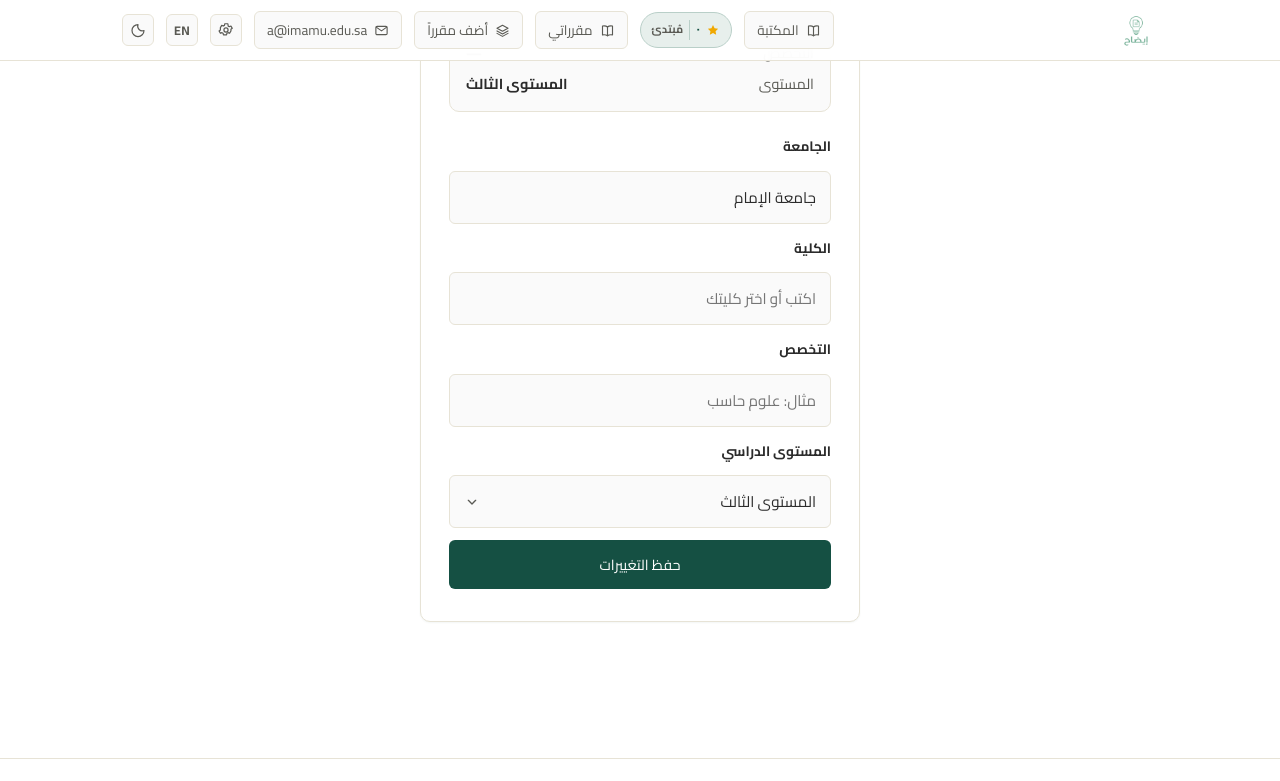
Scenario: الحفظ يستدعي saveProfile بالحقول المعدّلة ويعرض تأكيداً
(page scrolled)
In the field labelled "التخصص": (640, 400) [449,374,831,427], type "هندسة برمجيات"
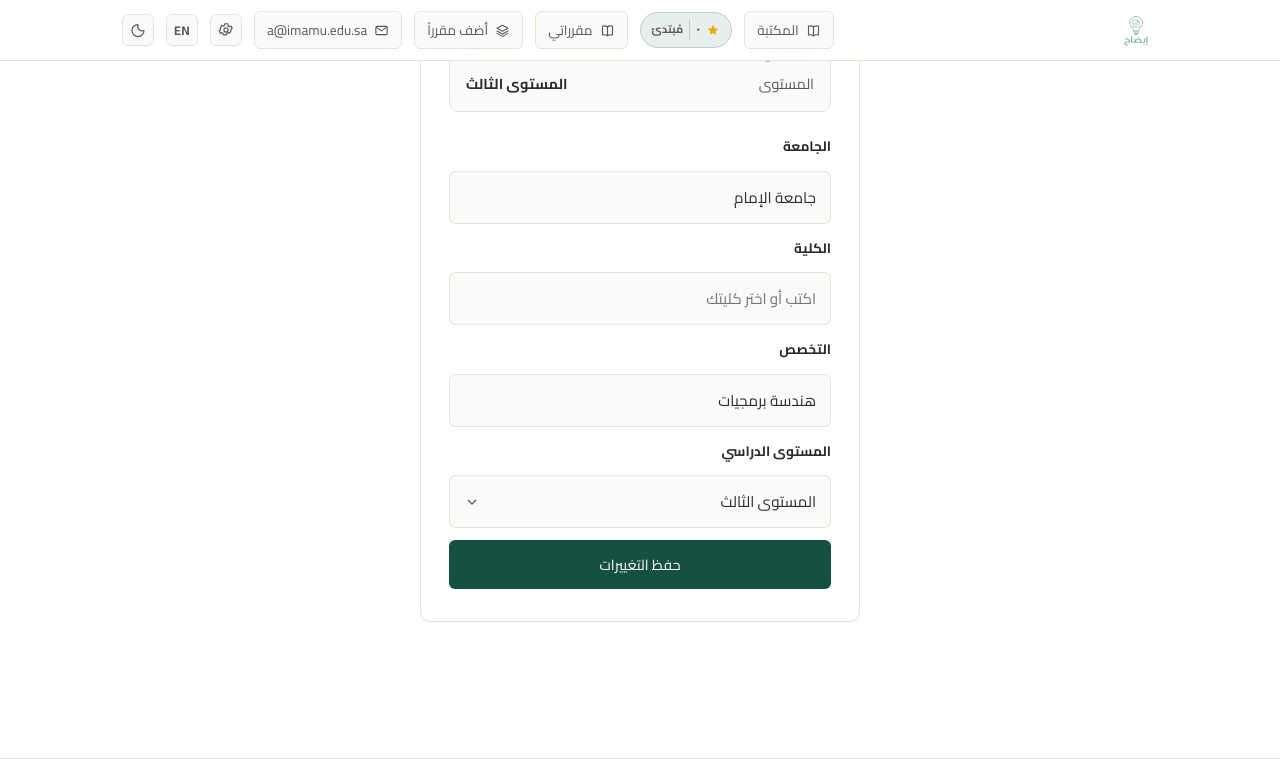
Select "المستوى الخامس" in the dropdown labelled "المستوى الدراسي": (640, 502) [449,475,831,528]
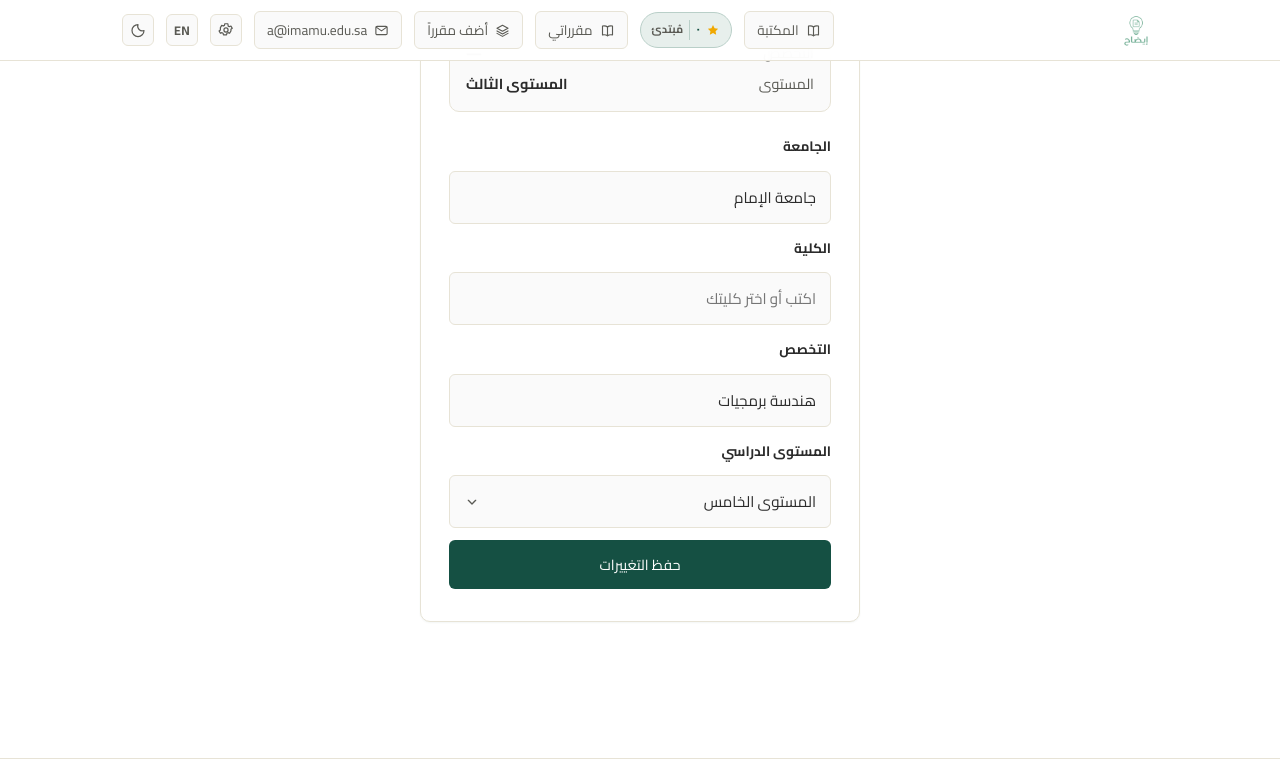
Click the button "حفظ التغييرات": click(640, 565) [449,540,831,589]
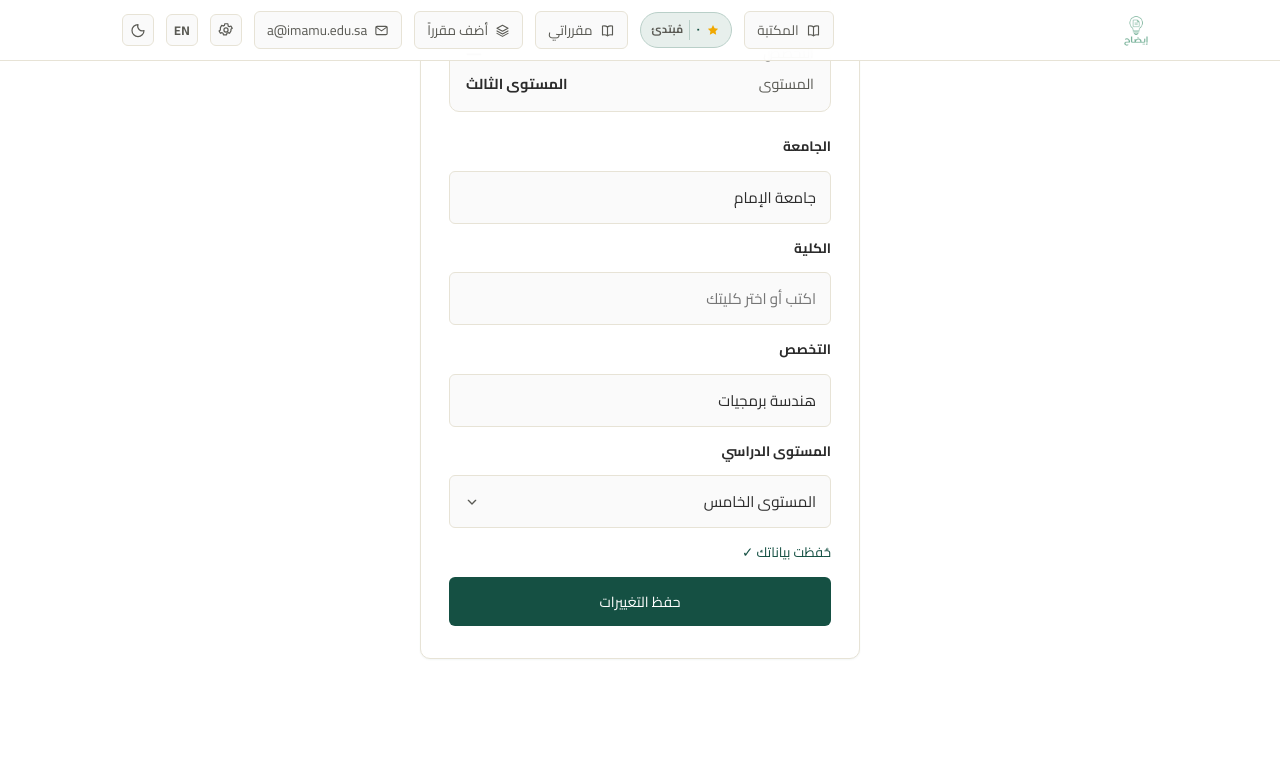
Expected: the text "حُفظت بياناتك ✓" is shown, [742,539,831,565]
